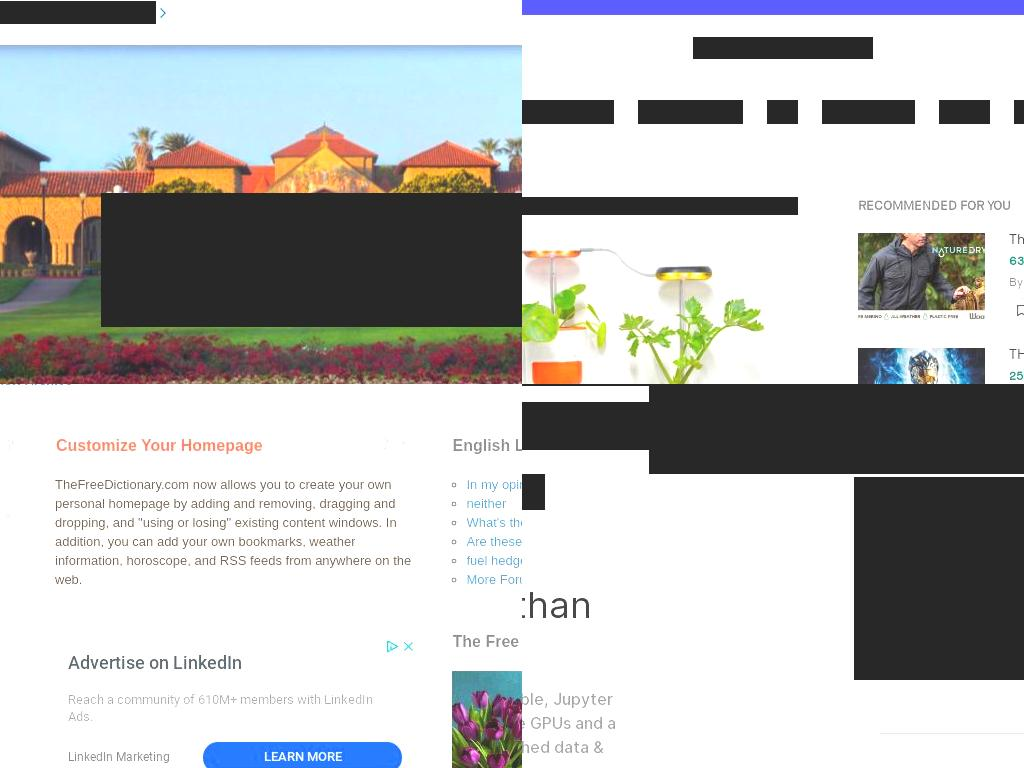button: (522, 233, 798, 384), (878, 583, 1024, 737), (858, 233, 1009, 323), (858, 348, 1009, 384), (693, 37, 873, 59), (638, 100, 743, 124), (822, 100, 915, 124), (522, 100, 614, 124), (983, 641, 1024, 677), (939, 100, 990, 124), (767, 100, 798, 124), (1008, 298, 1024, 323), (1014, 100, 1024, 124)
heading: (522, 583, 616, 671), (522, 197, 798, 215), (56, 436, 263, 455), (858, 197, 1024, 215), (452, 436, 522, 455), (452, 632, 522, 651)
iframe: (57, 637, 417, 768), (451, 588, 522, 739)
image: (522, 233, 798, 384), (854, 477, 1024, 680), (878, 583, 1024, 733), (649, 384, 855, 474), (854, 384, 1024, 474), (858, 233, 985, 323), (858, 348, 985, 384), (693, 37, 873, 59), (1009, 304, 1024, 317)
link: (466, 476, 522, 492), (466, 514, 522, 530), (466, 533, 522, 549), (466, 552, 522, 568), (466, 571, 522, 587), (466, 495, 507, 511), (0, 384, 73, 388), (3, 506, 14, 526), (399, 433, 410, 453), (6, 435, 15, 455), (381, 433, 389, 453), (80, 384, 89, 389)
text: (101, 193, 522, 327), (55, 474, 415, 589), (522, 402, 1024, 450), (522, 687, 616, 768), (0, 1, 156, 24), (999, 650, 1024, 668), (1008, 275, 1024, 290)
